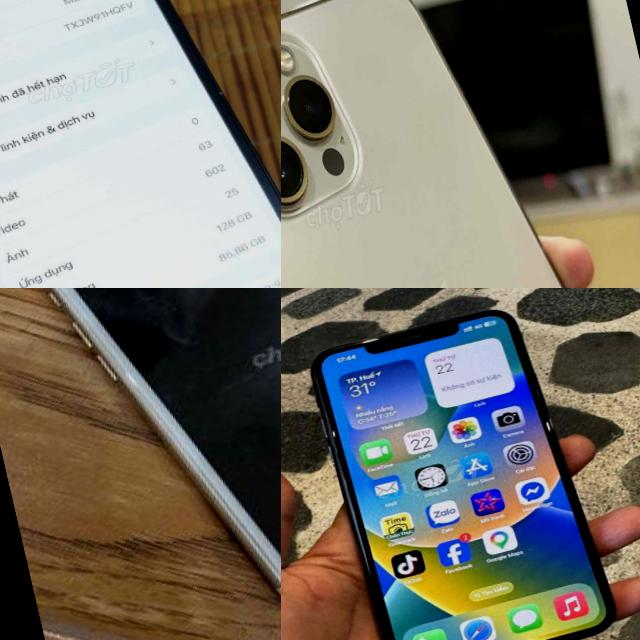gen_11: (292, 288, 628, 640)
gen_12_13: (281, 0, 640, 288), (0, 0, 281, 288)
gen_7_8: (13, 288, 281, 640)
